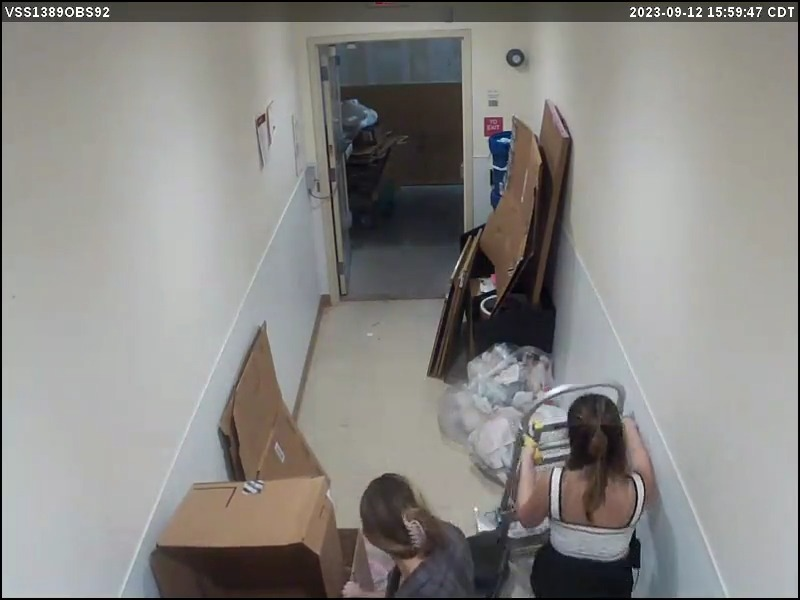No-gloves: (516, 443, 541, 469)
